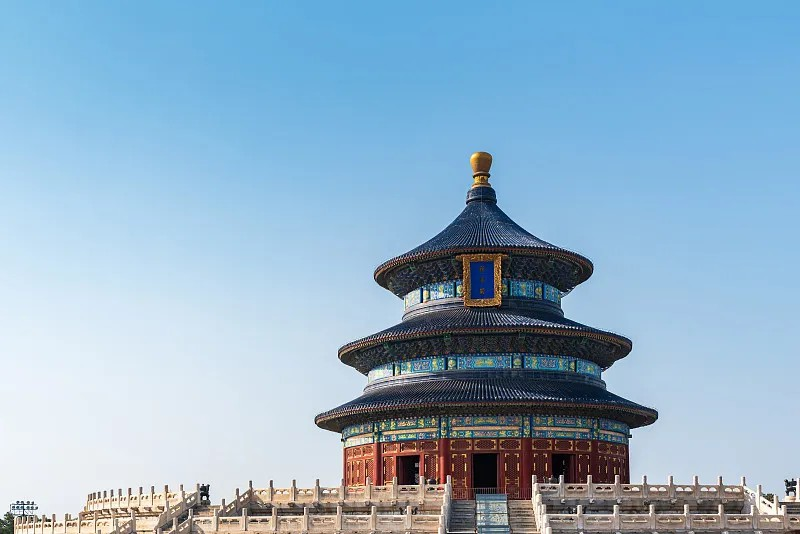Heaven: (314, 152, 659, 499)
